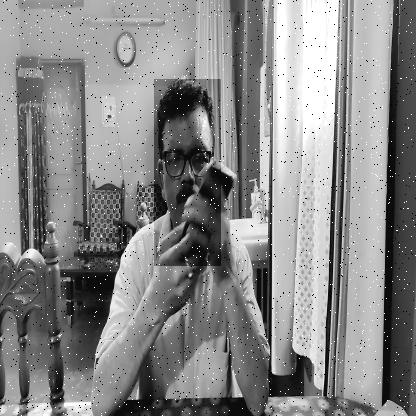Normal: (154, 79, 221, 266)
